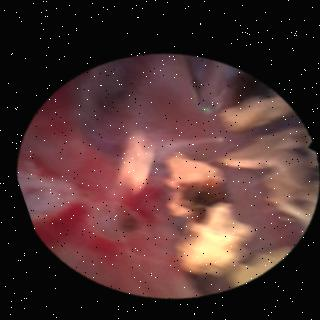stone: (161, 148, 286, 281), (215, 123, 311, 221), (110, 129, 150, 192), (217, 92, 287, 124)
tissue: (20, 52, 256, 290), (221, 167, 290, 242)
